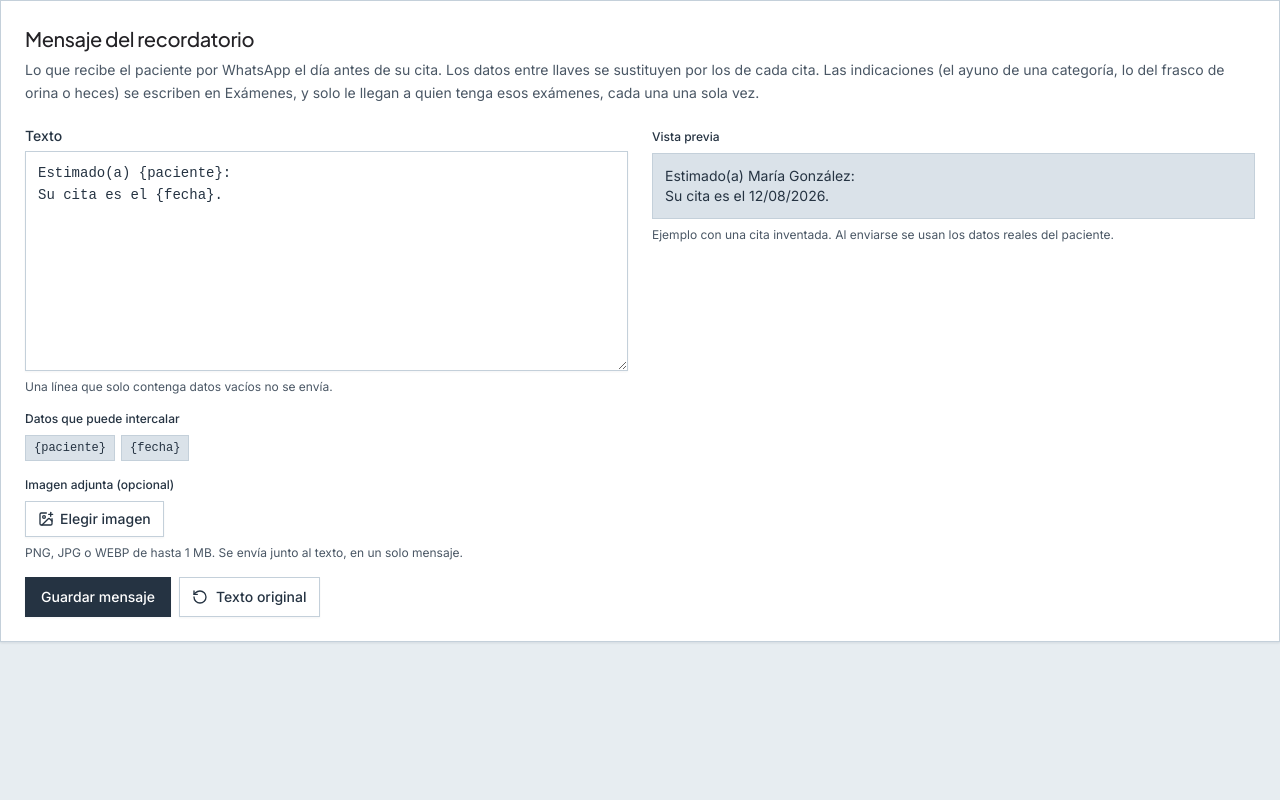
Test: MensajeRecordatorioCard › permite recuperar el texto original del sistema
The width and height of the screenshot is (1280, 800).
Check: the text "Estimado(a) María González: Su cita es el 12/08/2026." is shown, box [665,166,855,204]
What coordinates should you click on to do the following:
click the button "Texto original"
I would click on:
 (249, 596)
Its box is [179,576,320,616].
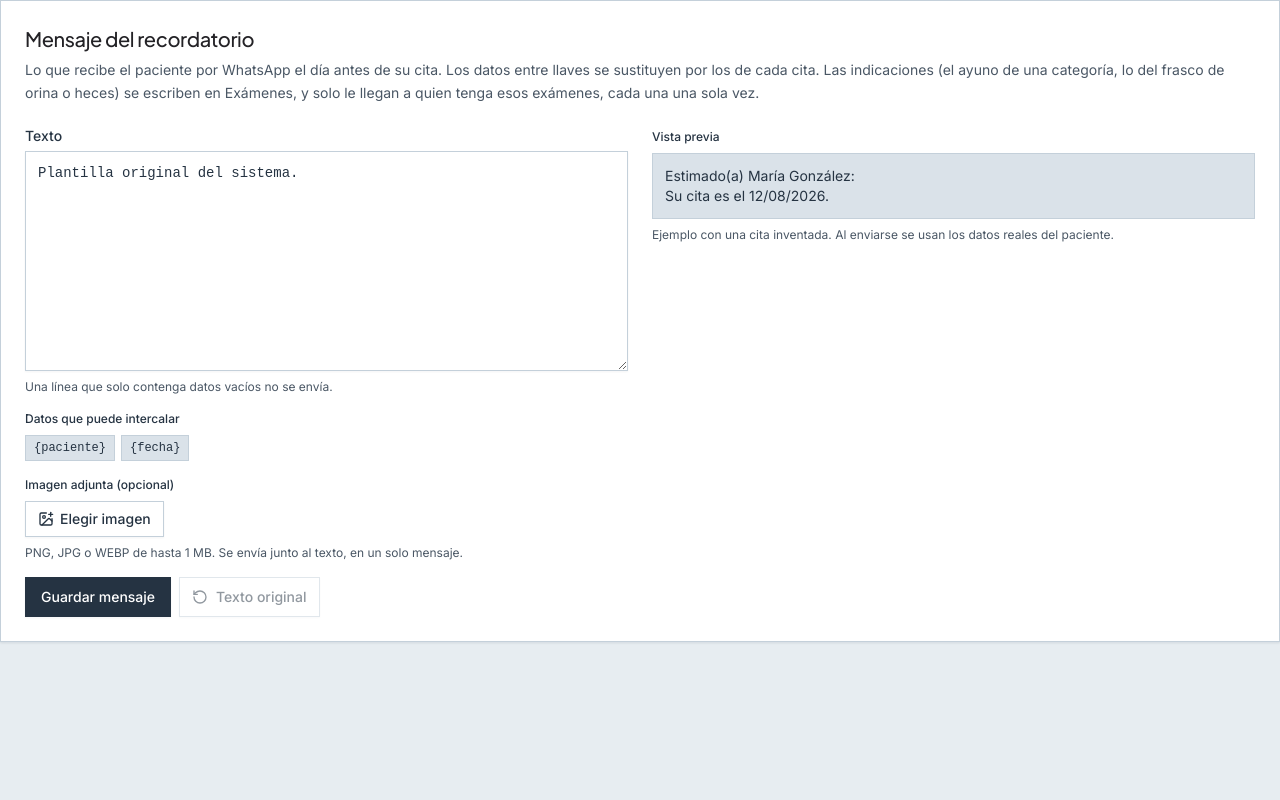
Check: the text box labelled "Texto" holds "Plantilla original del sistema.", box [25,150,628,370]
